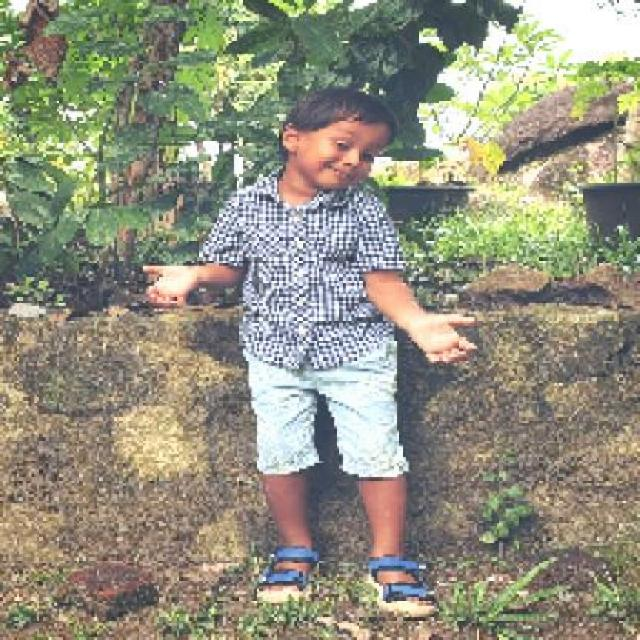child: (143, 84, 480, 619)
